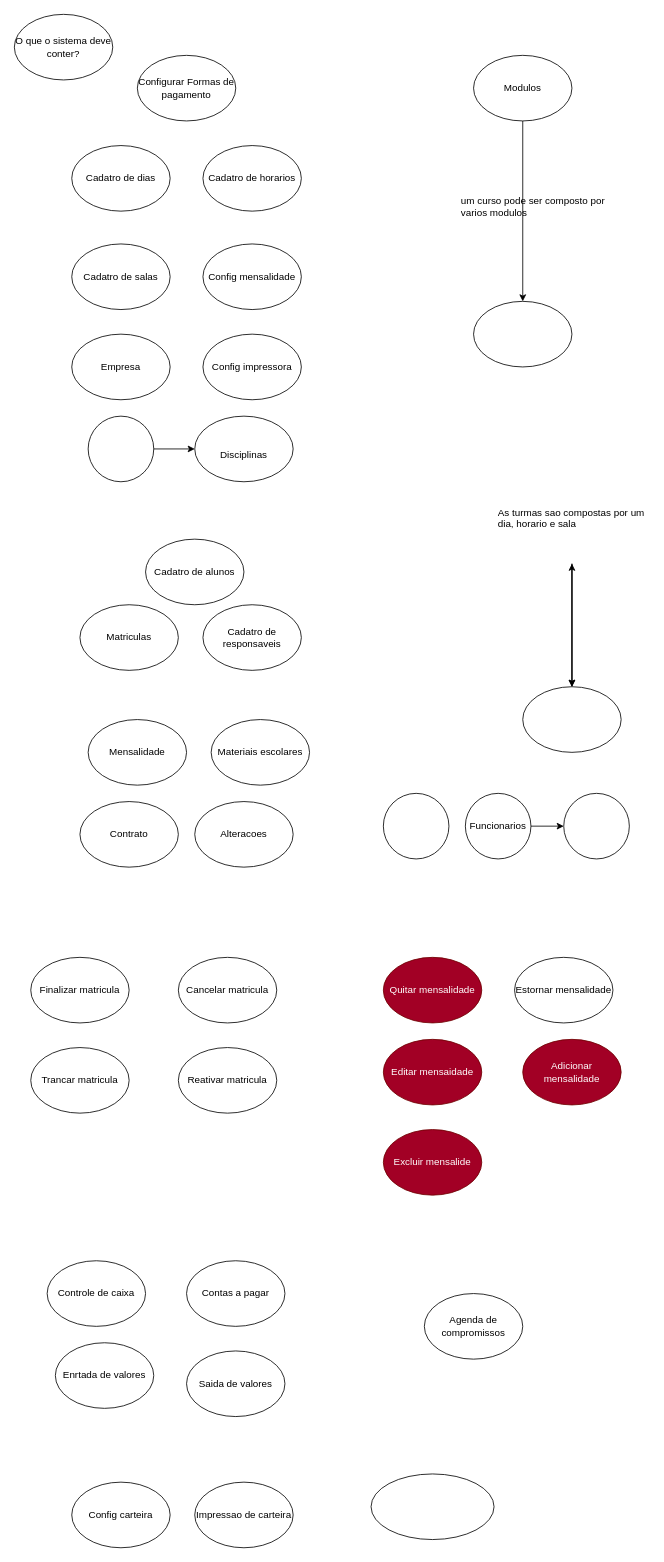
Image size: 664x1562. Some labels were removed from this diagram. The centre of each missing label's shape, as x and y in pixels:
"Consultores" belongs at [416,826].
"Cursos" belongs at [522,334].
"Interessados" belongs at [432,1506].
"NIvel acesso" belongs at [596,826].
"Professores" belongs at [120,448].
"Turmas" belongs at [571,719].
